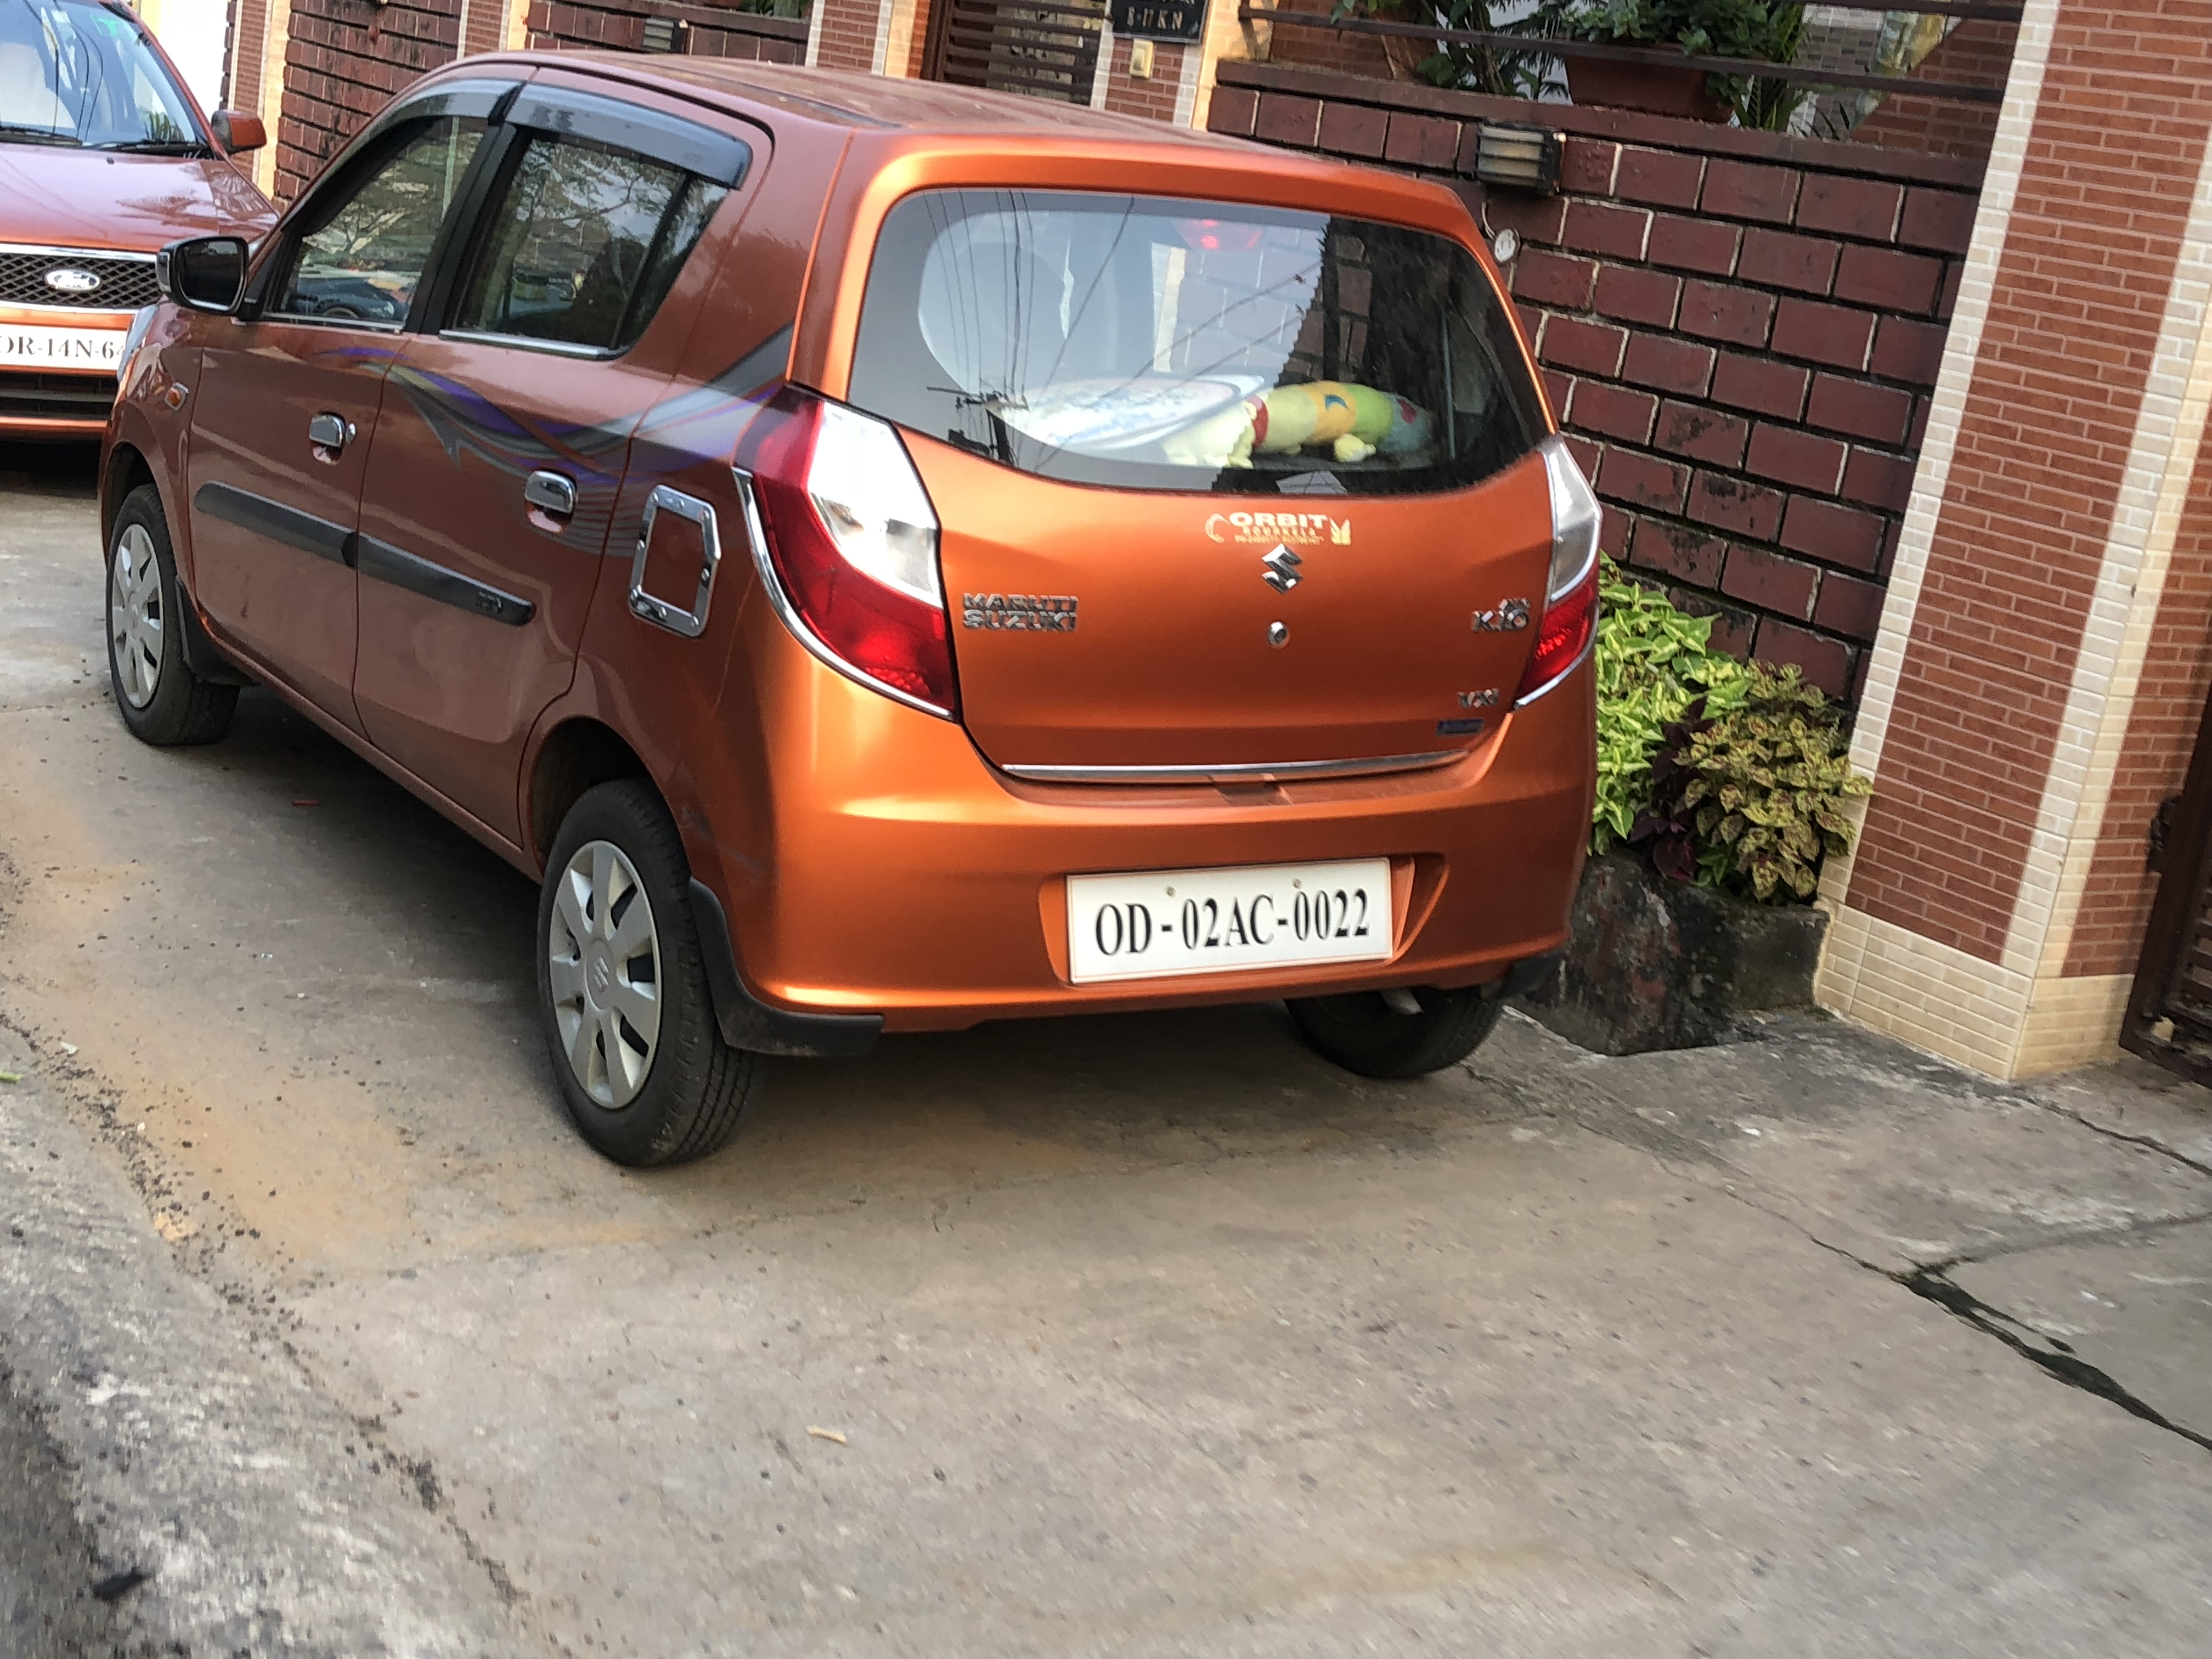licenseplate: (1050, 838, 1396, 981)
